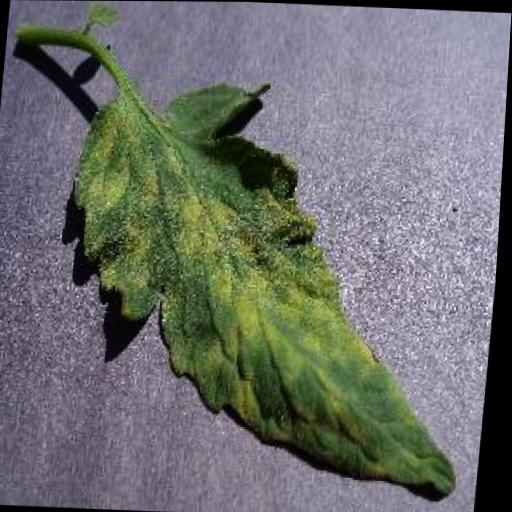Leaf Mold: (46, 79, 493, 491)
